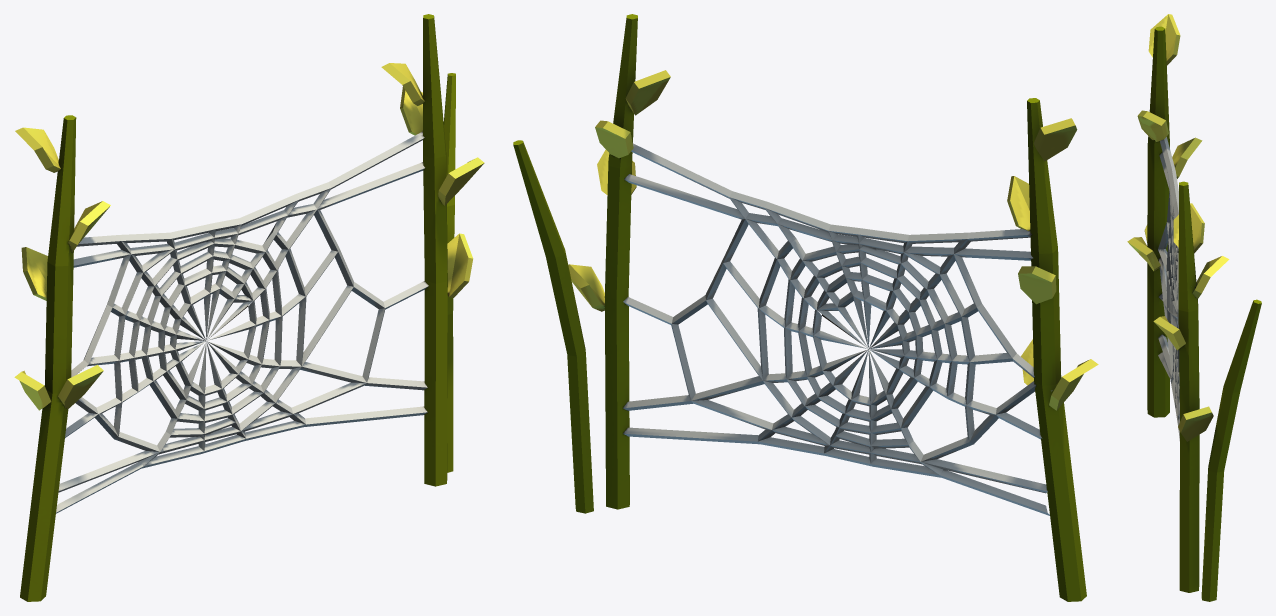
File: 1fac4f7f-47c3-4d6b-b59e-d70a3c288405.glb
3 views of the same model, side by side, from view 1: azimuth 30°, elevation 25°; view 2: azimuth 150°, elevation 25°; view 3: azimuth 270°, elevation 25° (orthographic). The views are drawn at different scales.
Parts seen in each view (by area): view 1: Spider_web; view 2: Spider_web; view 3: Spider_web.
Part boxes in pixels (x1,y1,x2,y2): Spider_web: (14, 14, 484, 601); Spider_web: (513, 14, 1098, 601); Spider_web: (1127, 14, 1261, 601).
Bounding box in the file's own units: 2.29 × 2.05 × 0.6236.
Materials: 1 (1 with a texture image).
